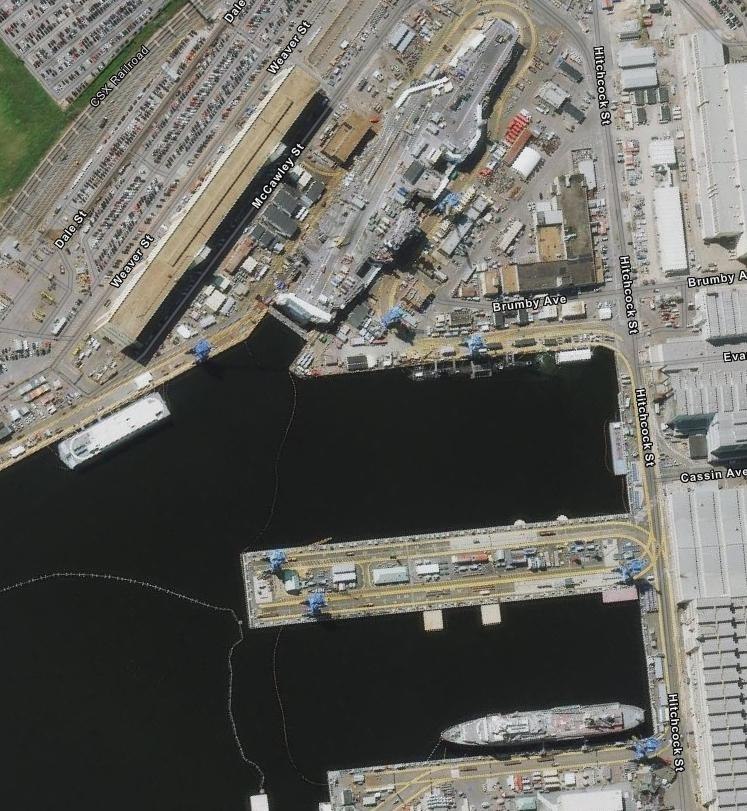carrier: (272, 14, 526, 332)
submarine: (405, 353, 552, 386)
